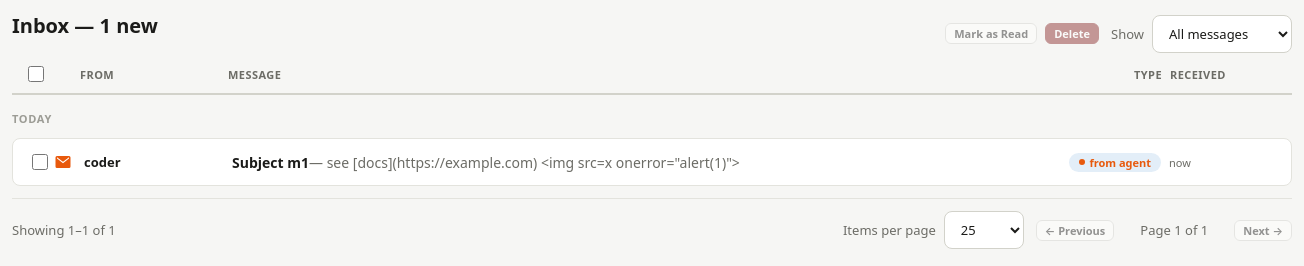
Test: markdown rendering in message body (S-285) › links open safely and raw HTML is sanitized away
Click the button with aria-label "Open message: Subject m1": (666, 162) x1=54 y1=152 x2=1279 y2=172
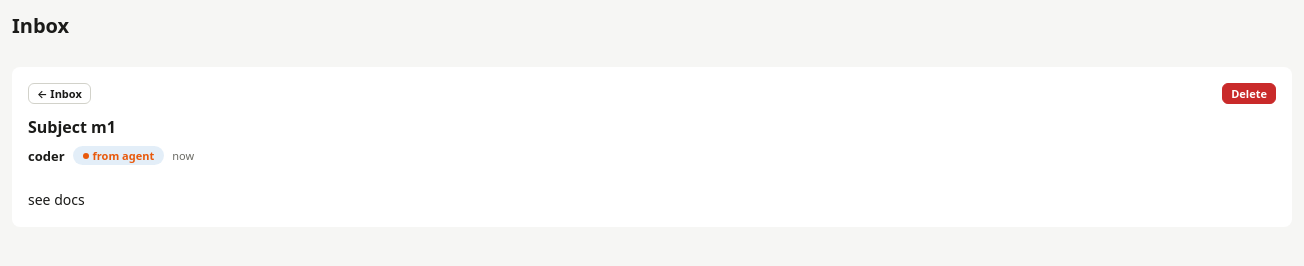
Check: the text "onerror" is gone
